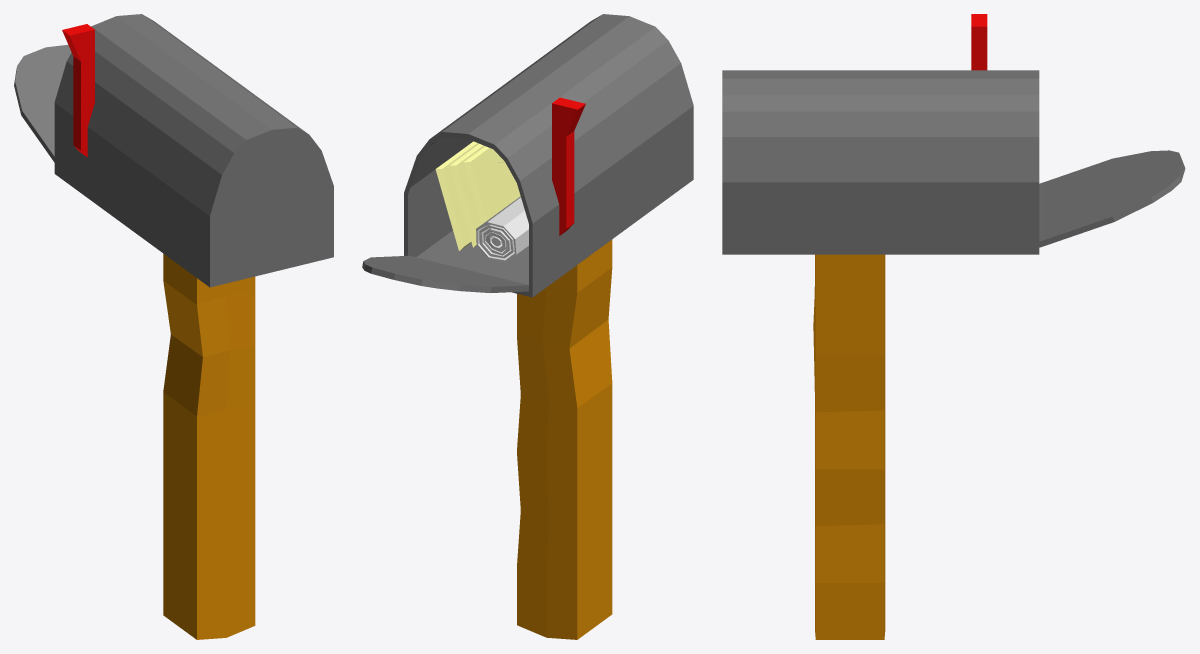
The model's file is mailbox.glb.
3 views of the same model, side by side, from view 1: azimuth 30°, elevation 25°; view 2: azimuth 150°, elevation 25°; view 3: azimuth 270°, elevation 25° (orthographic). The views are drawn at different scales.
Visible parts, largest first — view 1: Cube.002; view 2: Cube.002; view 3: Cube.002.
Boxes of the visible parts, x1=… form: Cube.002: x1=14, y1=14, x2=333, y2=639; Cube.002: x1=362, y1=14, x2=693, y2=639; Cube.002: x1=722, y1=14, x2=1185, y2=639.
Bounding box in the file's own units: 0.9344 × 3.55 × 2.59.
